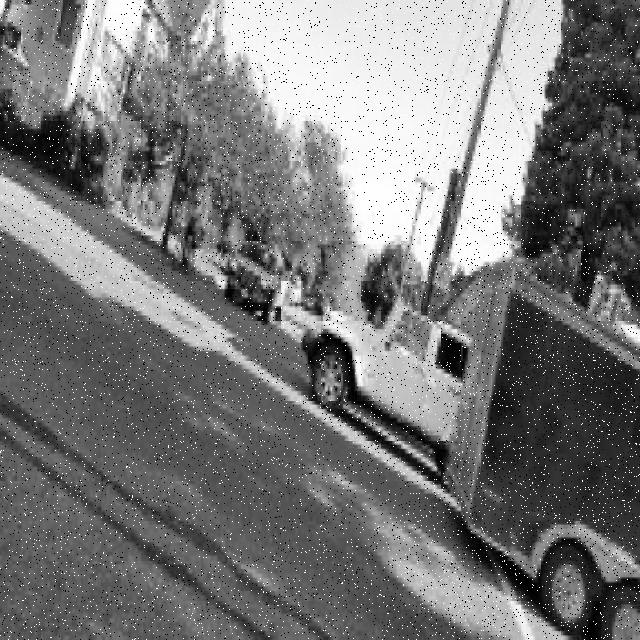Box Truck: (444, 263, 640, 640)
